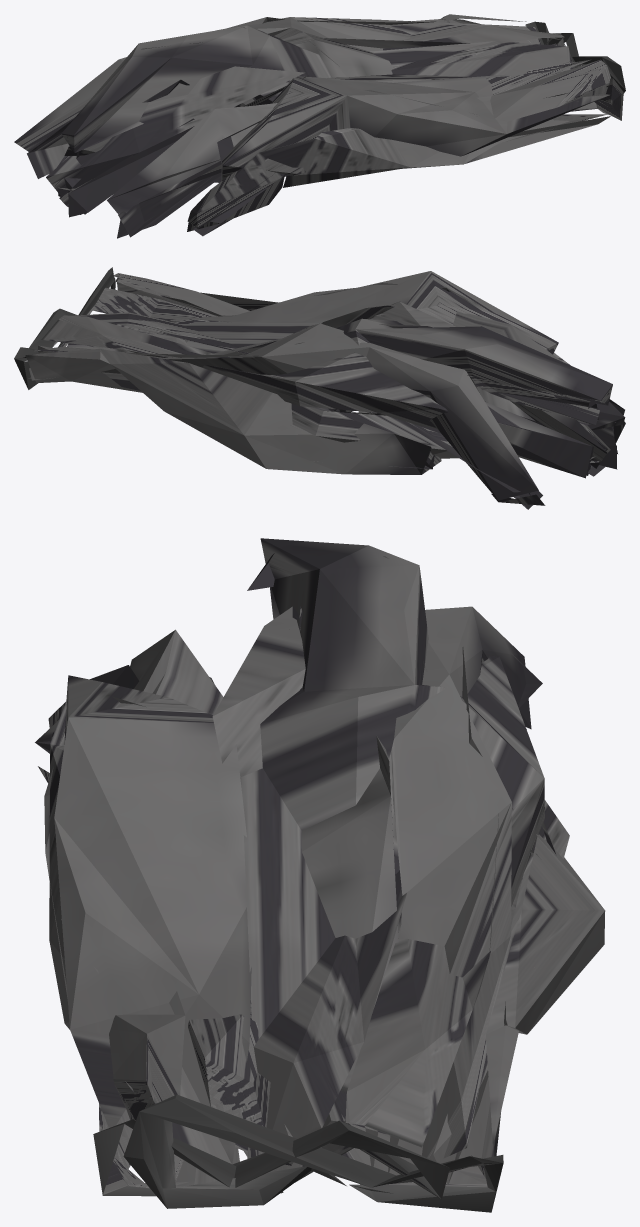
Rendered from ppe_gloves_cloth_a01.glb.
The picture shows the model from 3 angles, top to bottom: view 1: azimuth 30°, elevation 25°; view 2: azimuth 150°, elevation 25°; view 3: azimuth 270°, elevation 25°; orthographic projection. The views are drawn at different scales.
Parts seen in each view (by area): view 1: geometry_0; view 2: geometry_0; view 3: geometry_0.
Boxes of the visible parts, x1,y1,x2,y2 form: geometry_0: (14,14,625,238); geometry_0: (14,267,625,509); geometry_0: (35,538,605,1212).
Bounding box in the file's own units: 0.42 × 0.0975 × 0.1939.
Materials: 1 (1 with a texture image).
